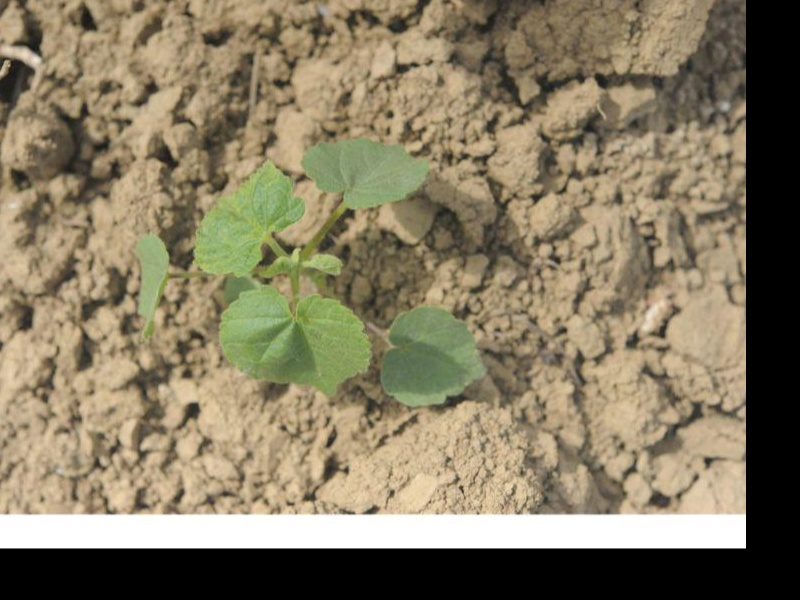velvet: (136, 135, 486, 406)
